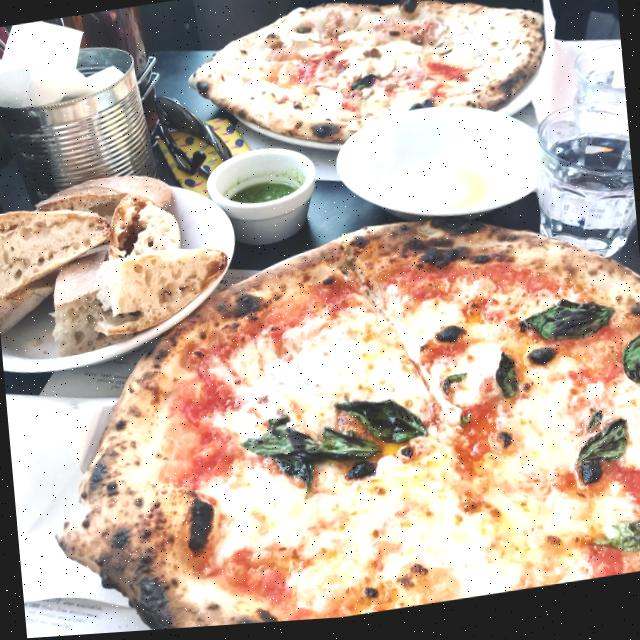basil: (333, 391, 435, 460), (516, 302, 616, 355), (569, 427, 634, 493), (242, 419, 322, 470), (318, 426, 381, 473), (586, 525, 640, 567), (277, 454, 317, 509), (619, 327, 640, 395), (496, 357, 518, 407), (441, 377, 466, 401)
pizza: (30, 192, 640, 638), (184, 0, 553, 168)
